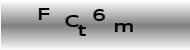6: (92, 7, 106, 22)
C: (64, 14, 79, 27)
F: (37, 6, 50, 21)
m: (113, 22, 134, 33)
t: (77, 24, 87, 38)
